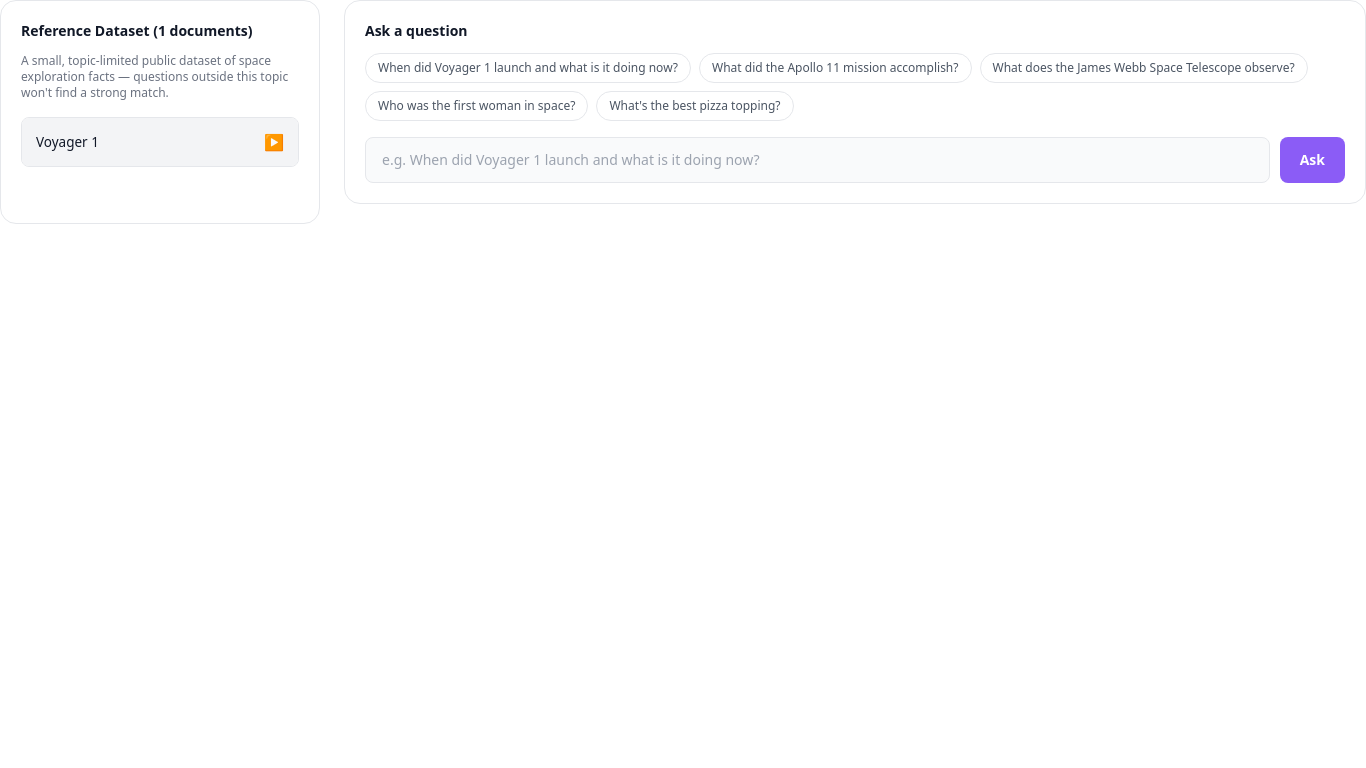
Test case: RagApp › does not claim grounding when passages scored well but the answer cites none
Type "Who was the first woman in space?" into the field with placeholder "e.g. When did Voyager 1 launch and what is it doing now?".
click(817, 160); type("Who was the first woman in space?")  # box [365,137,1270,183]
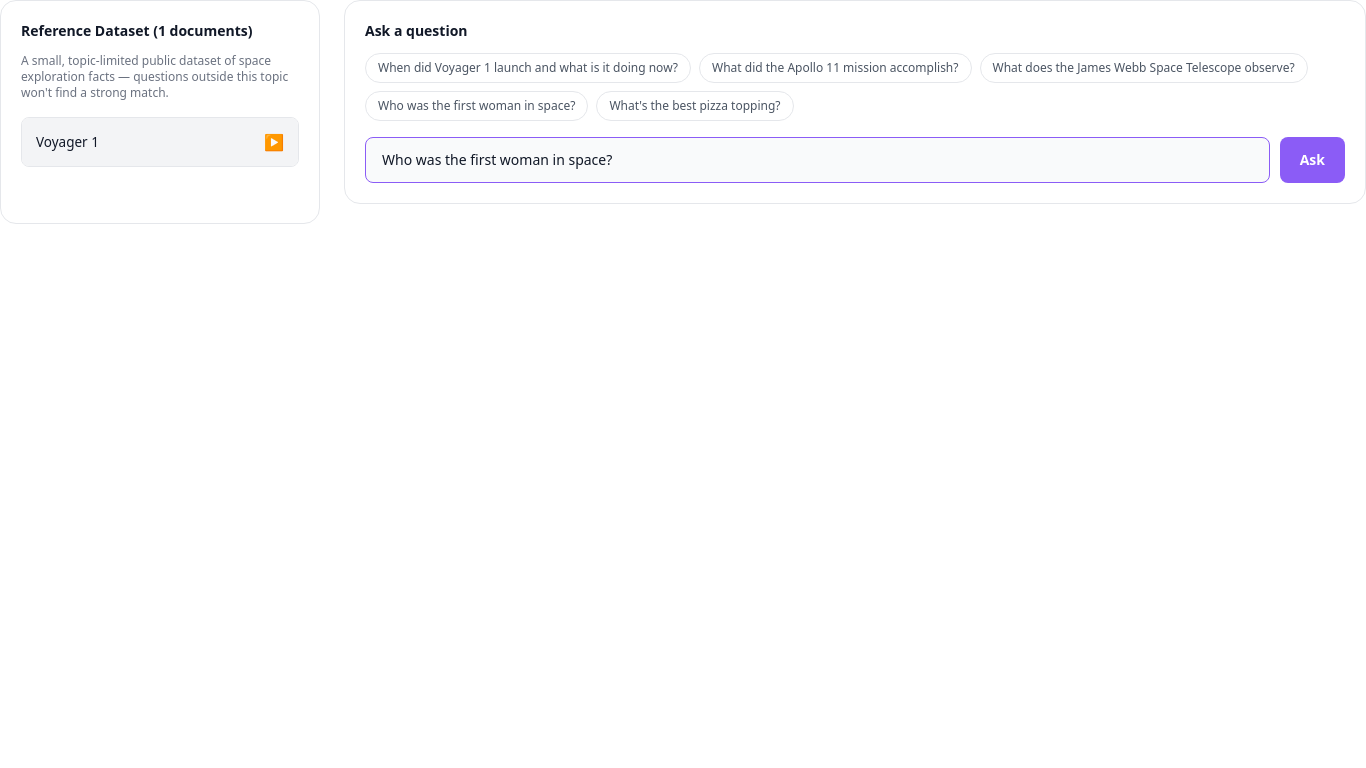
Click the button "Ask".
click(1312, 160)  # box [1280,137,1345,183]
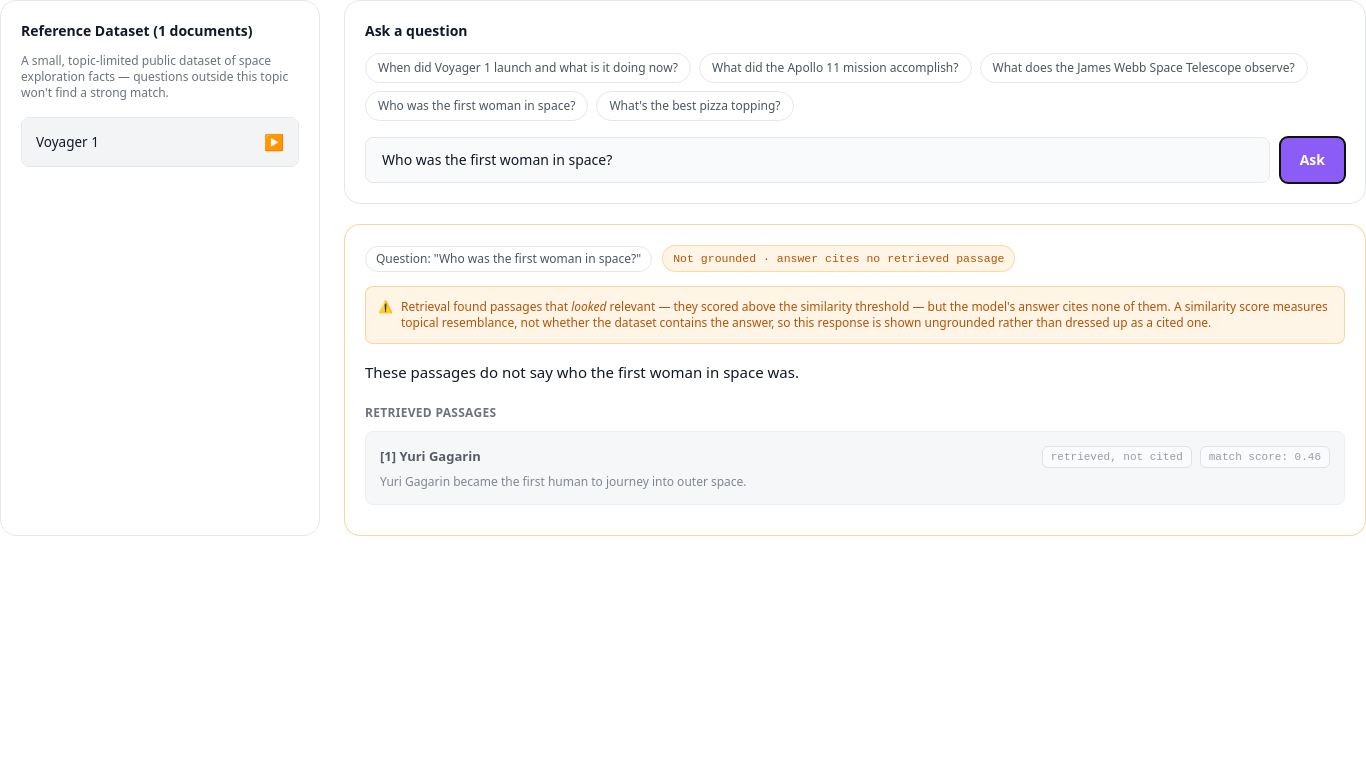
Now the text "Not grounded · answer cites no retrieved passage" is shown, box [662,245,1016,272]
Now the text "retrieved, not cited" is shown, box [1042,446,1192,468]
